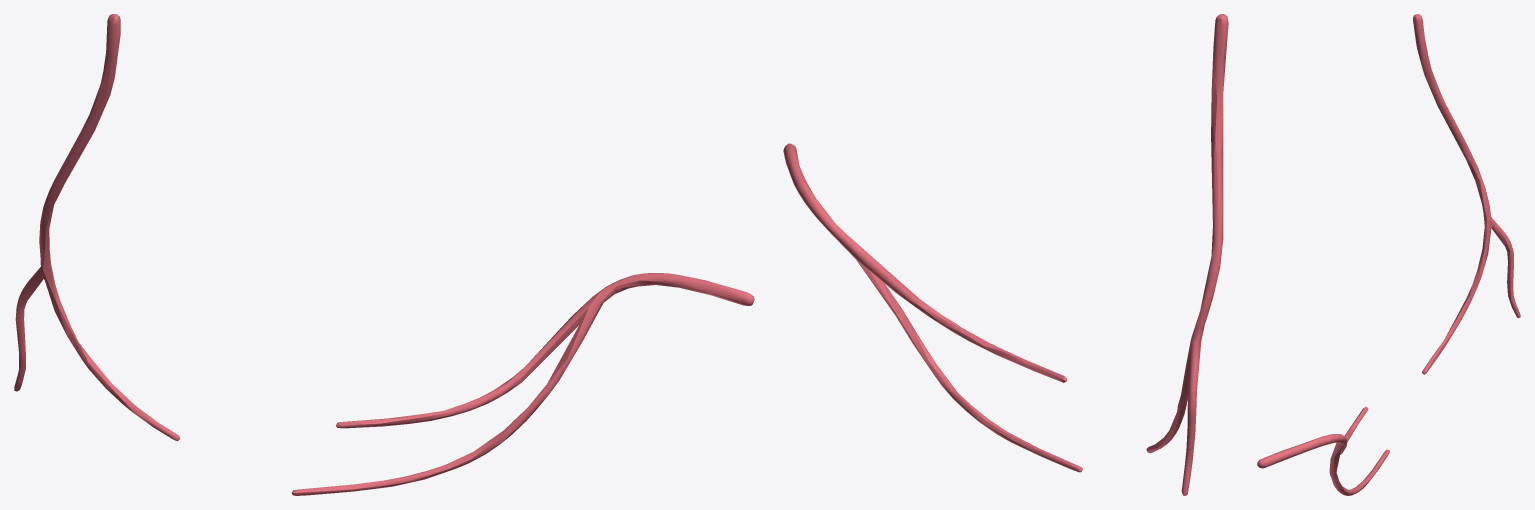
The model's file is fma70847_fj4991.glb.
3 views of the same model, side by side, from view 1: azimuth 30°, elevation 25°; view 2: azimuth 150°, elevation 25°; view 3: azimuth 270°, elevation 25° (orthographic). The views are drawn at different scales.
Parts seen in each view (by area): view 1: FMA70847_FJ4991; view 2: FMA70847_FJ4991; view 3: FMA70847_FJ4991.
Boxes of the visible parts, x1=… form: FMA70847_FJ4991: x1=14, y1=14, x2=754, y2=495; FMA70847_FJ4991: x1=783, y1=14, x2=1228, y2=495; FMA70847_FJ4991: x1=1257, y1=14, x2=1520, y2=495.
Bounding box in the file's own units: 0.0374 × 0.0317 × 0.0199.
